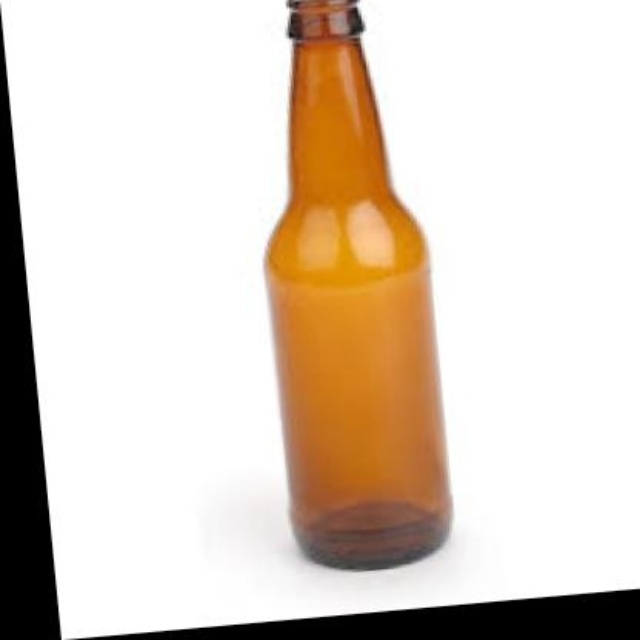trash: (266, 0, 451, 568)
